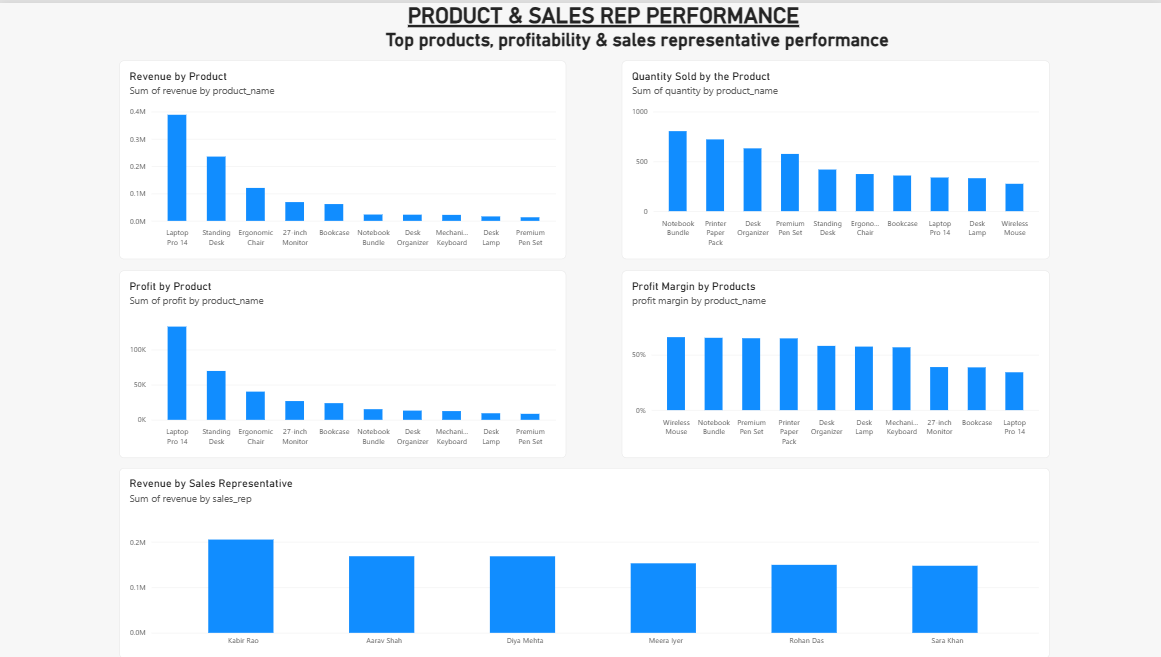

The dashboard page shown, as its layout file describes it:
{"tool":"powerbi","page":{"name":"Page 4","canvas":[1920,1080],"ordinal":3},"visuals":[{"type":"clusteredColumnChart","title":"Revenue by Product","fields":{"Category":["sales_portfolio sales_data.product_name"],"Y":["Sum(sales_portfolio sales_data.revenue)"]},"box":[200,95.5,736.4,327.3],"z":0},{"type":"clusteredColumnChart","title":"Quantity Sold by the Product","fields":{"Category":["sales_portfolio sales_data.product_name"],"Y":["Sum(sales_portfolio sales_data.quantity)"]},"box":[1027.3,95.5,704.5,327.3],"z":1000},{"type":"clusteredColumnChart","title":"Profit by Product","fields":{"Category":["sales_portfolio sales_data.product_name"],"Y":["Sum(sales_portfolio sales_data.profit)"]},"box":[200,440.9,736.4,309.1],"z":2000},{"type":"clusteredColumnChart","title":"Profit Margin by Products","fields":{"Category":["sales_portfolio sales_data.product_name"],"Y":["sales_portfolio sales_data.profit margin"]},"box":[1027.3,440.9,704.5,309.1],"z":3000},{"type":"clusteredColumnChart","title":"Revenue by Sales Representative","fields":{"Category":["sales_portfolio sales_data.sales_rep"],"Y":["Sum(sales_portfolio sales_data.revenue)"]},"box":[200,765.9,1531.8,313.6],"z":4000},{"type":"textbox","title":"PRODUCT & SALES REP PERFORMANCE","box":[518.2,0,956.8,43.2],"z":5000},{"type":"textbox","title":"Top products, profitability & sales representative performance","box":[629.5,43.2,845.5,36.4],"z":6000}]}

Visuals, with their boxes in screenshot pixels (x1, y1, x2, y2), scaled from the page's 1920x1080 canvas onto the 1161x657 screenshot:
"Revenue by Product" clusteredColumnChart: box=[121, 58, 566, 257]
"Quantity Sold by the Product" clusteredColumnChart: box=[621, 58, 1047, 257]
"Profit by Product" clusteredColumnChart: box=[121, 268, 566, 456]
"Profit Margin by Products" clusteredColumnChart: box=[621, 268, 1047, 456]
"Revenue by Sales Representative" clusteredColumnChart: box=[121, 466, 1047, 656]
"PRODUCT & SALES REP PERFORMANCE" textbox: box=[313, 0, 892, 26]
"Top products, profitability & sales representative performance" textbox: box=[381, 26, 892, 48]
